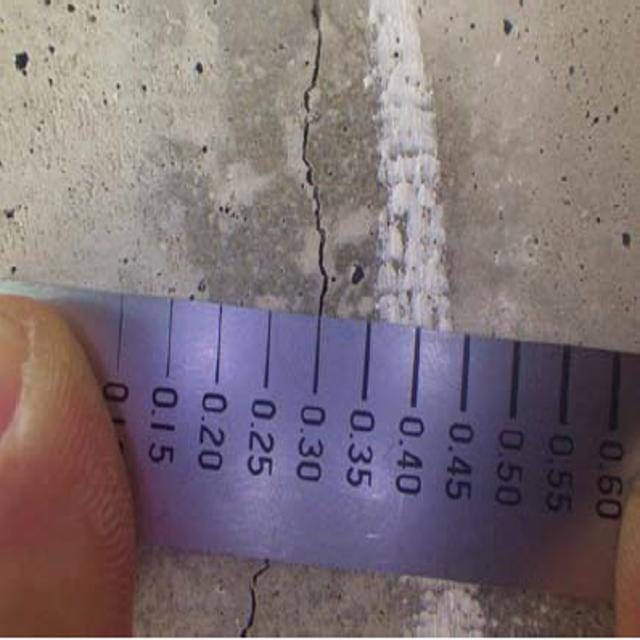crack: (286, 0, 364, 316), (213, 557, 314, 640)
